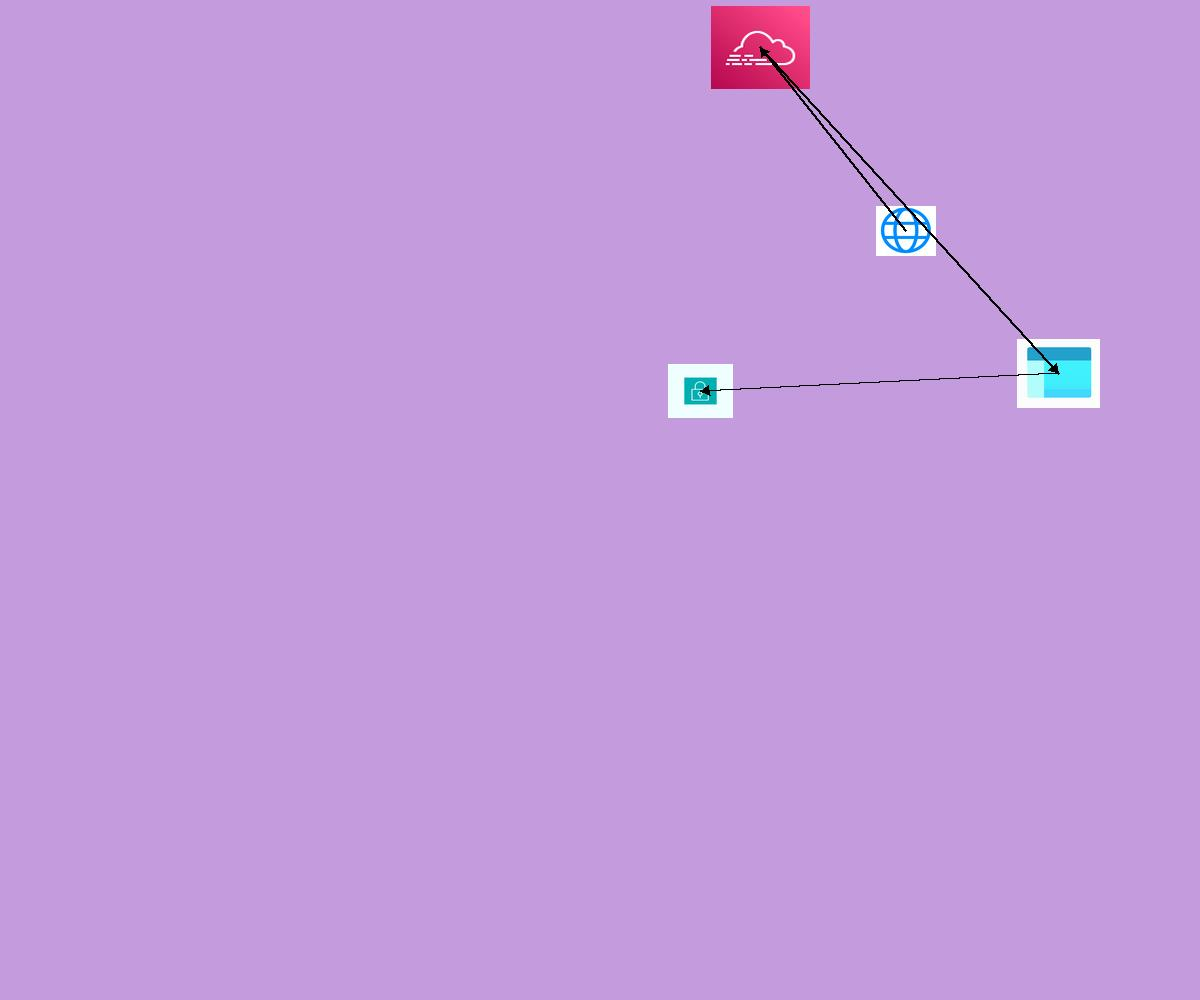AWS-CloudTrail: (711, 6, 810, 89)
AWS-Private-subnet: (668, 364, 733, 418)
Azure_http: (876, 206, 936, 256)
Azure_management-portal: (1017, 339, 1100, 408)
